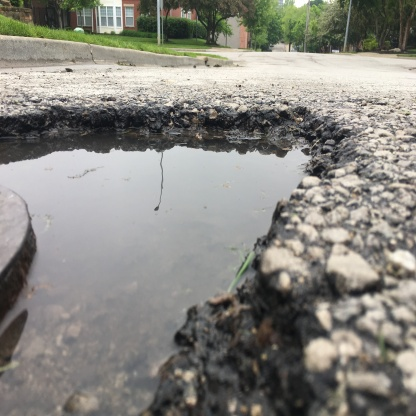pothole: (3, 81, 357, 416)
